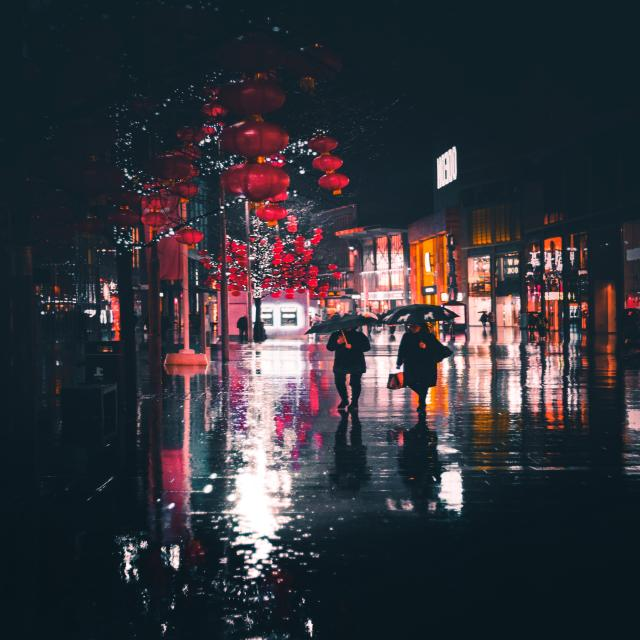adult: (396, 318, 454, 408), (326, 322, 371, 409), (236, 316, 248, 340), (537, 312, 548, 338), (526, 313, 538, 332)
